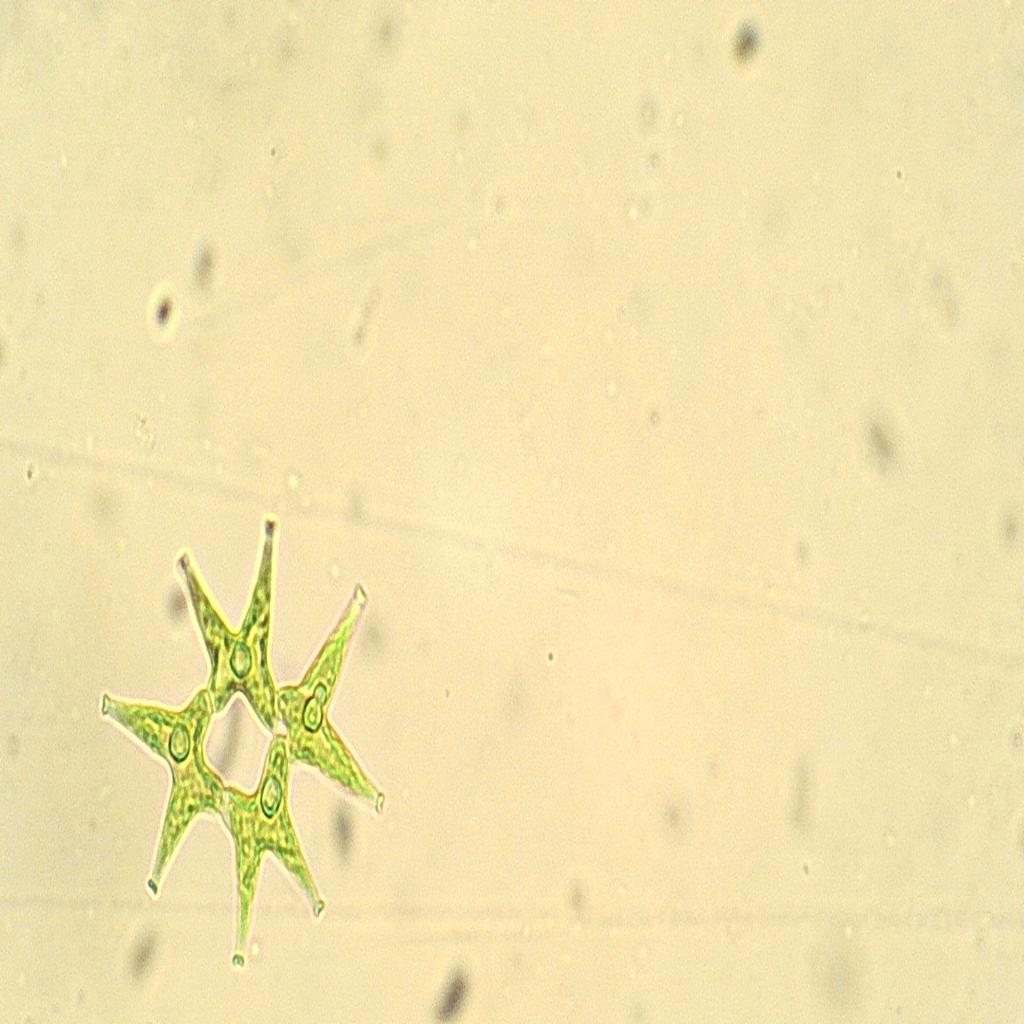Pediastrum_CT: (88, 508, 418, 982)
